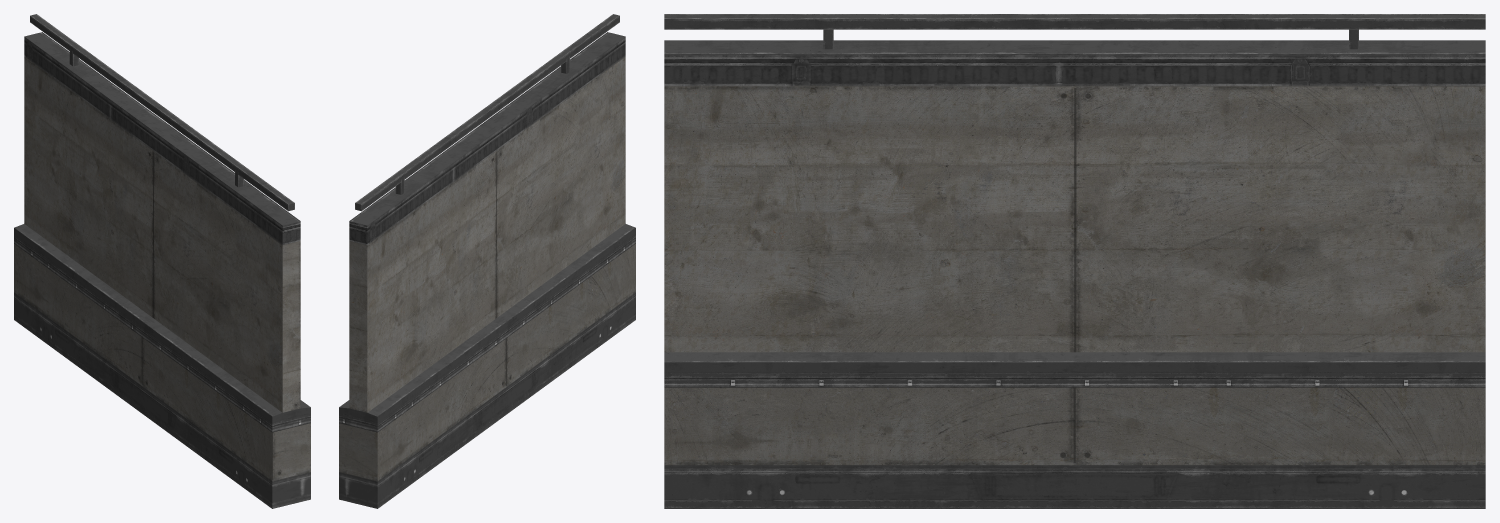
The model's file is CP_Fence_B_5m_01.fbx.
3 renders of one model, left to right at view 1: azimuth 30°, elevation 25°; view 2: azimuth 150°, elevation 25°; view 3: azimuth 270°, elevation 25°, orthographic. The views are drawn at different scales.
Parts seen in each view (by area): view 1: CP_Fence_B_5m_01; view 2: CP_Fence_B_5m_01; view 3: CP_Fence_B_5m_01.
Part boxes in pixels (x1=…): CP_Fence_B_5m_01: x1=14, y1=14, x2=310, y2=508; CP_Fence_B_5m_01: x1=339, y1=14, x2=635, y2=508; CP_Fence_B_5m_01: x1=664, y1=14, x2=1485, y2=508.
Size of the model in its own units: 43.21 by 321 by 500.
